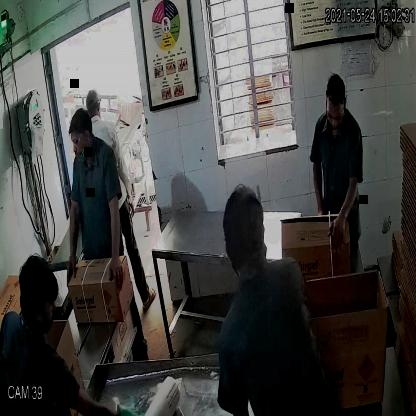goggles: (326, 103, 346, 130), (68, 130, 92, 147)
